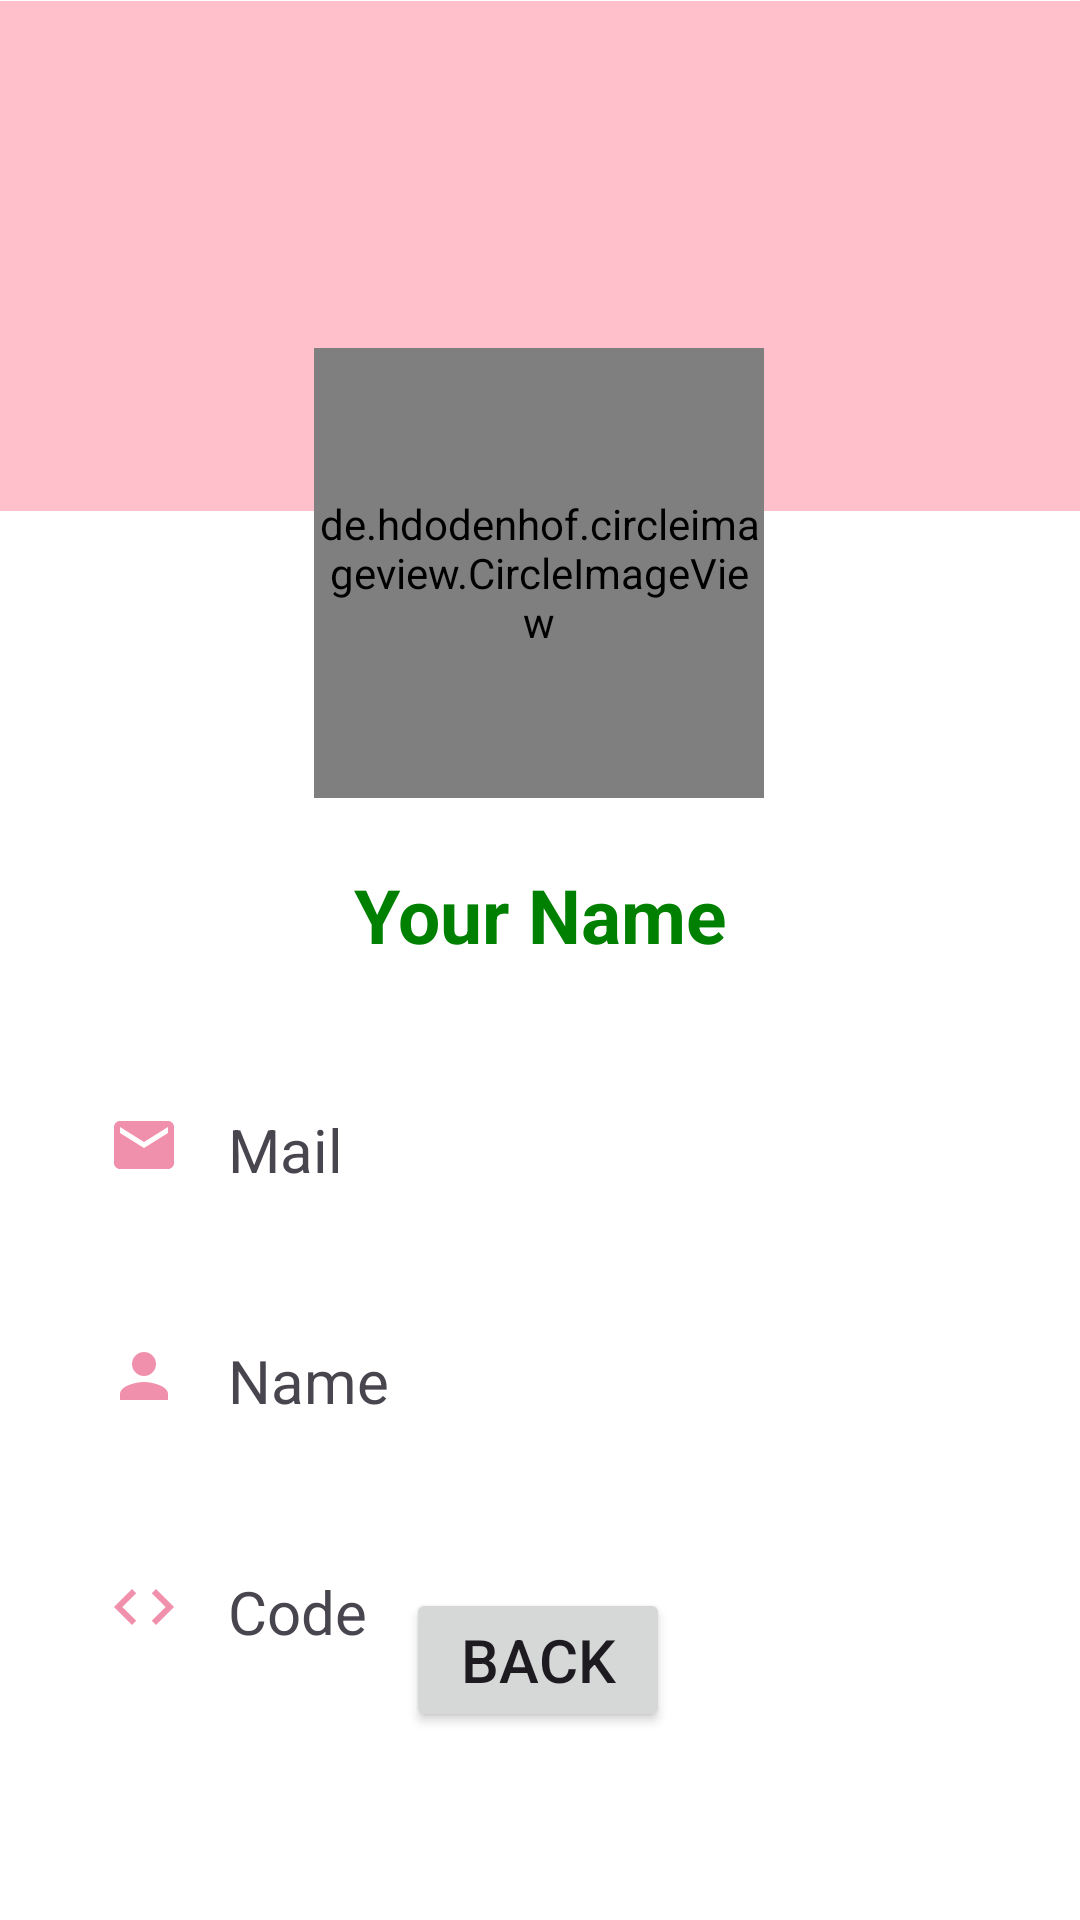

Named icons in this screenshot (1080 x 1920) and their centers, (x=x, y=y):
person: (x=144, y=1376)
